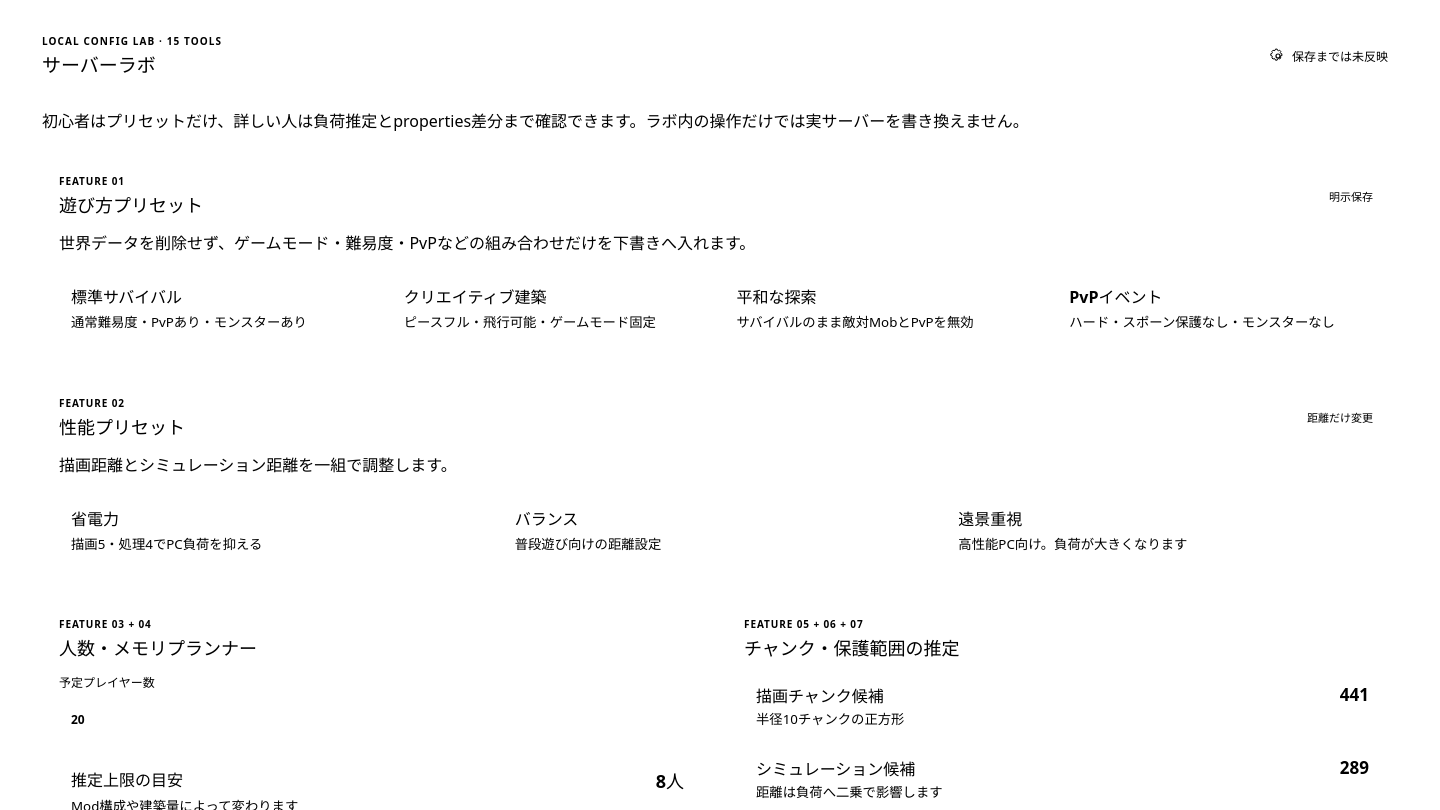
it: ServerLabTab › keeps presets in a visible draft until explicit apply
Click the button "クリエイティブ建築 ピースフル・飛行可能・ゲームモード固定".
click(475, 297)  # box [392, 270, 716, 348]
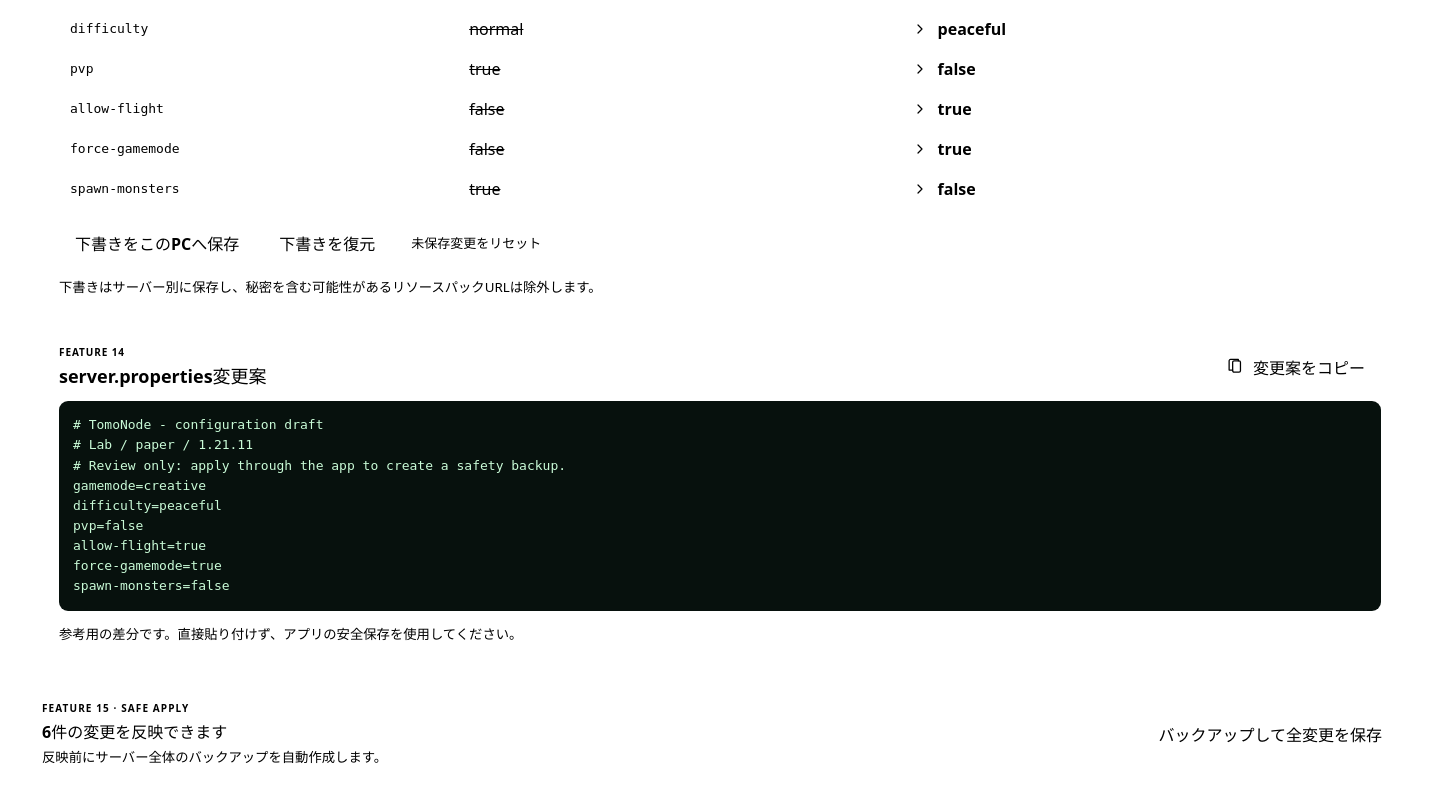
Expected: the button "バックアップして全変更を保存" is enabled, [1142, 713, 1398, 755]
